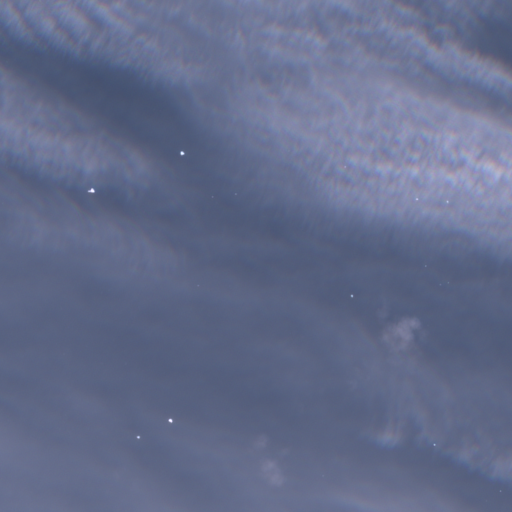Iceberg: (87, 188, 94, 192), (180, 151, 184, 155), (168, 418, 172, 422), (136, 435, 140, 438), (350, 294, 353, 297), (416, 198, 418, 200), (446, 200, 448, 202), (433, 443, 435, 445), (235, 193, 236, 194), (212, 196, 213, 197), (425, 265, 426, 266), (447, 282, 448, 283), (439, 284, 440, 285)
